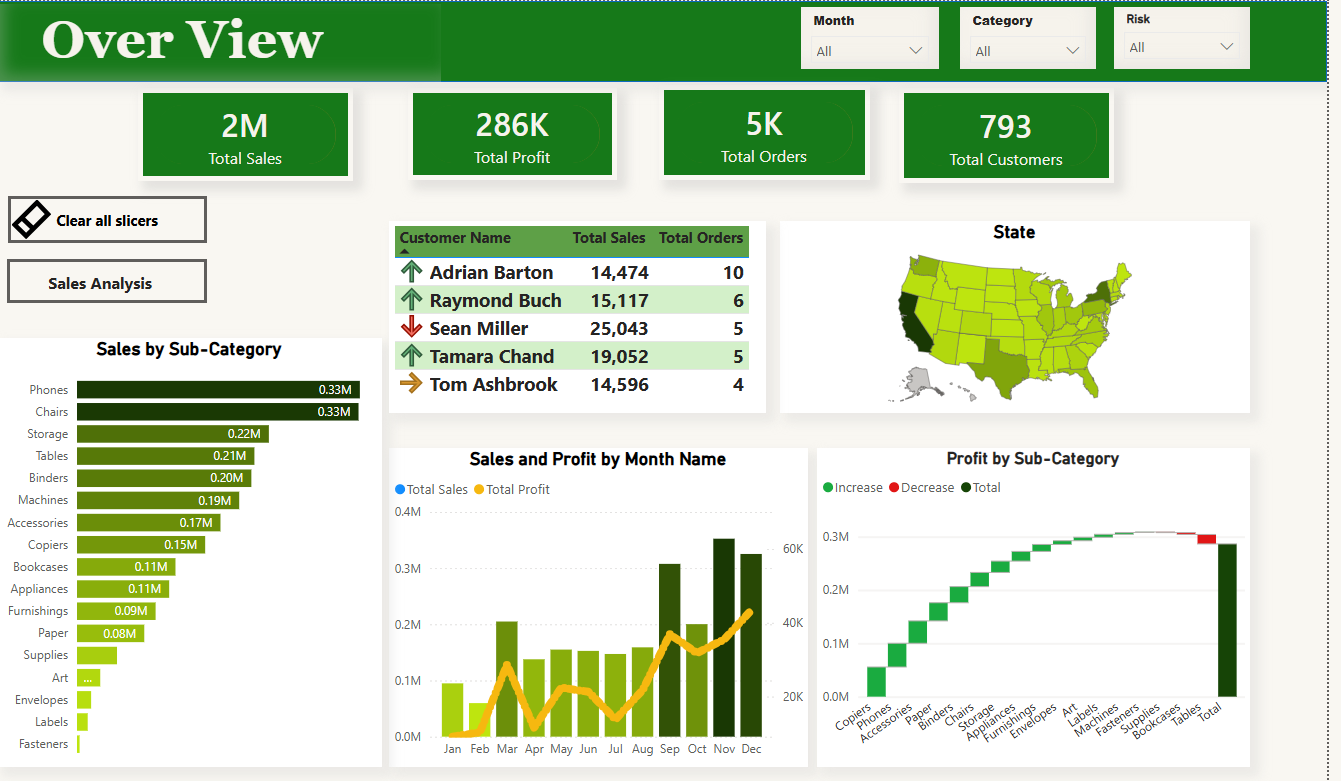

The dashboard page shown, as its layout file describes it:
{"tool":"powerbi","page":{"name":"Over view","canvas":[1330,780],"ordinal":0},"visuals":[{"type":"shape","box":[0,0,1330,81],"z":0},{"type":"cardVisual","fields":{"Data":["Measuress.Total Sales"]},"box":[141,87,215,93],"z":0,"group":"g1"},{"type":"group","id":"g1","title":"Group 1","box":[141,84,976,98],"z":1000},{"type":"cardVisual","fields":{"Data":["Measuress.Total Profit"]},"box":[411,86.5,209,92.9],"z":1000,"group":"g1"},{"type":"cardVisual","fields":{"Data":["Measuress.Total Orders"]},"box":[662,84,211,94.6],"z":2000,"group":"g1"},{"type":"lineClusteredColumnComboChart","title":"Sales and Profit by Month Name","fields":{"Y":["Measuress.Total Sales"],"Y2":["Measuress.Total Profit"],"Category":["DimDate.Month Name"]},"box":[392,447,419,319],"z":2000},{"type":"cardVisual","fields":{"Data":["Measuress.Total Customers"]},"box":[902,87,215,95],"z":3000,"group":"g1"},{"type":"clusteredBarChart","title":"Sales by Sub-Category","fields":{"Category":["FactSales.Sub-Category"],"Y":["Measuress.Total Sales"]},"box":[0,337,385,429],"z":3000},{"type":"shapeMap","fields":{"Category":["FactSales.State"]},"box":[783,220,470,192],"z":4000},{"type":"tableEx","fields":{"Values":["FactSales.Customer Name","Measuress.Total Sales","Measuress.Total Orders"]},"box":[392,220,377,192],"z":5000},{"type":"waterfallChart","title":"Profit by Sub-Category","fields":{"Category":["FactSales.Sub-Category"],"Y":["Measuress.Total Profit"]},"box":[820,447,433,319],"z":6000},{"type":"slicer","fields":{"Values":["Orders.Category"]},"box":[963,6,136,62],"z":7000},{"type":"slicer","fields":{"Values":["FactSales.Risk"]},"box":[1117,6,136,62],"z":8000},{"type":"slicer","fields":{"Values":["DimDate.Month Name"]},"box":[804,6,138,62],"z":10000},{"type":"textbox","box":[0,3,444,78],"z":12000},{"type":"actionButton","box":[11,195,199,47],"z":12001},{"type":"actionButton","box":[10,258,200,44],"z":12002},{"type":"textbox","box":[29,266,149,36],"z":12003}]}

Visuals, with their boxes in screenshot pixels (x1, y1, x2, y2), scaled from the page's 1330x780 canvas onto the 1341x781 screenshot:
shape: (0,0,1340,81)
cardVisual - Measuress.Total Sales: (142,87,359,180)
"Group 1" group: (142,84,1126,182)
cardVisual - Measuress.Total Profit: (414,87,625,180)
cardVisual - Measuress.Total Orders: (667,84,880,179)
"Sales and Profit by Month Name" lineClusteredColumnComboChart: (395,448,818,767)
cardVisual - Measuress.Total Customers: (909,87,1126,182)
"Sales by Sub-Category" clusteredBarChart: (0,337,388,767)
shapeMap - FactSales.State: (789,220,1263,413)
tableEx - FactSales.Customer Name x Measuress.Total Sales: (395,220,775,413)
"Profit by Sub-Category" waterfallChart: (827,448,1263,767)
slicer - Orders.Category: (971,6,1108,68)
slicer - FactSales.Risk: (1126,6,1263,68)
slicer - DimDate.Month Name: (811,6,950,68)
textbox: (0,3,448,81)
actionButton: (11,195,212,242)
actionButton: (10,258,212,302)
textbox: (29,266,179,302)
